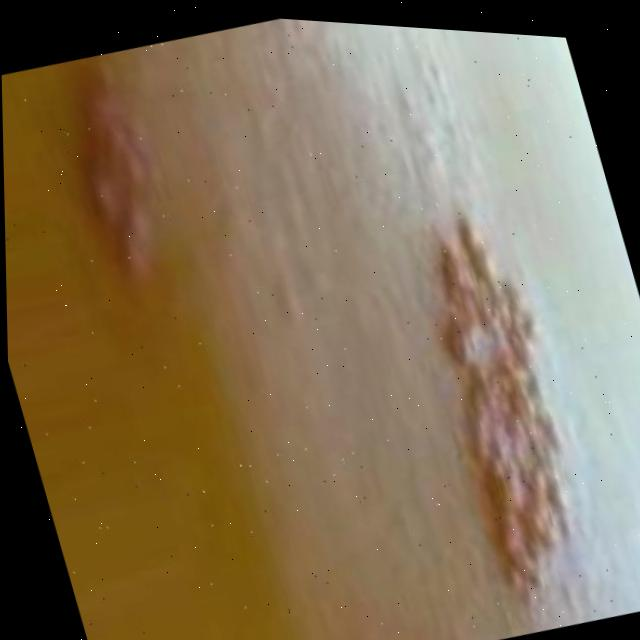Shingles: (412, 213, 599, 597), (47, 64, 174, 275)
